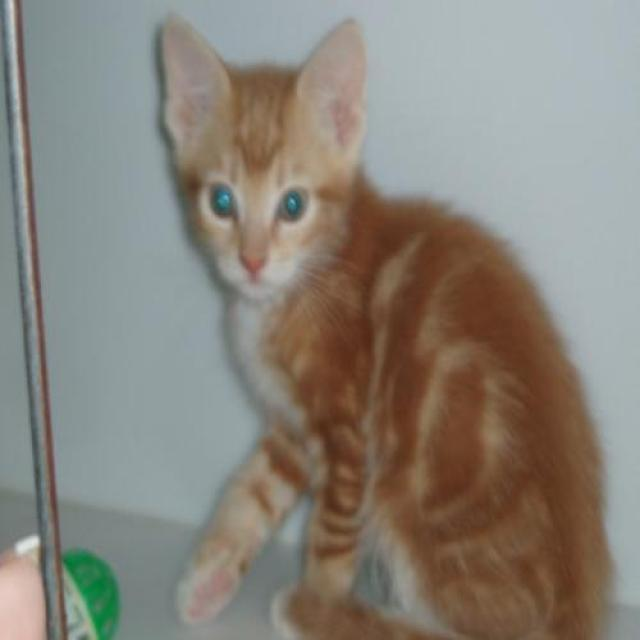Cats: (155, 11, 617, 638)
